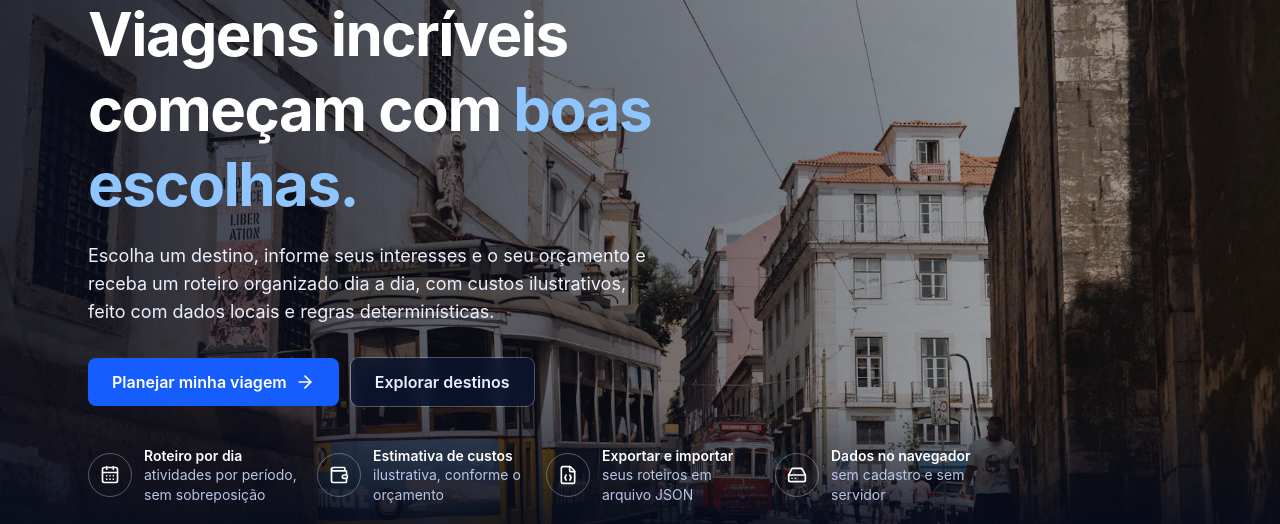
it: Etapa 2 — Datas e duração › opção A: calcula a duração a partir das datas e libera o avanço
Step 1. Click the link "Planejar minha viagem" → {"x": 213, "y": 382}, box [88, 358, 339, 406]
(page scrolled)
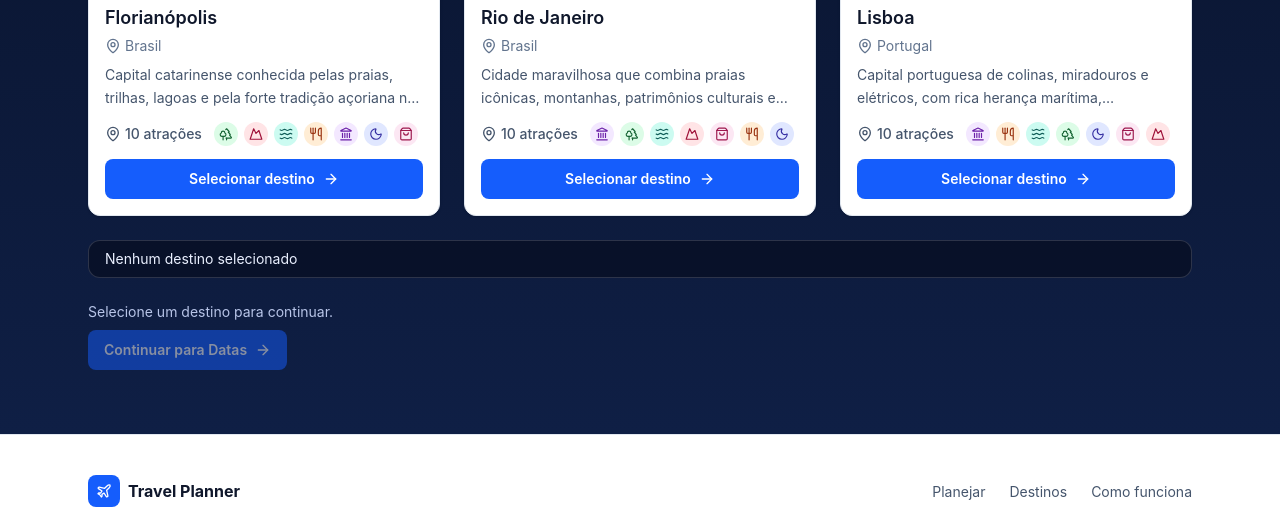
Step 2. Click the button "Selecionar destino" below "Portugal" → {"x": 1016, "y": 178}, box [857, 158, 1175, 198]
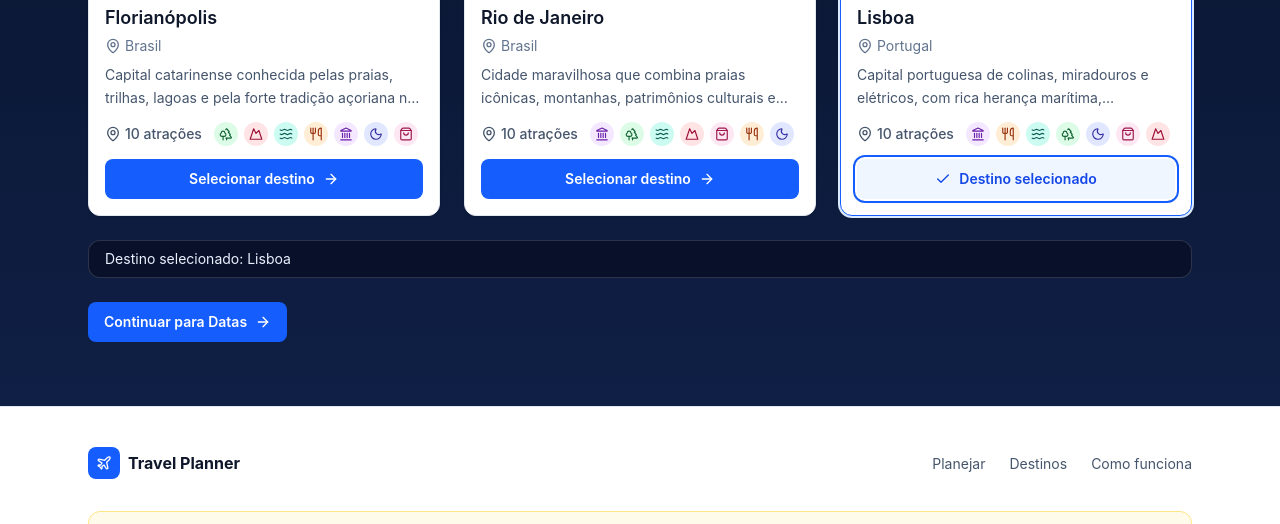
Step 3. Click the button "Continuar para Datas" → {"x": 188, "y": 322}, box [88, 302, 287, 342]
(page scrolled)
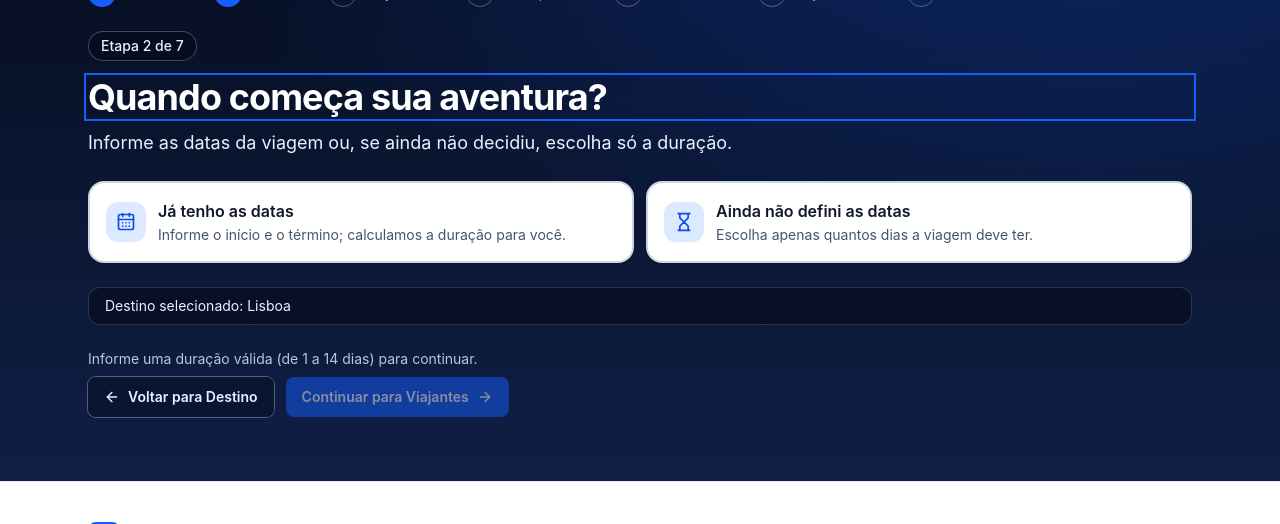
Expected: the heading "Quando começa sua aventura?" is shown, [88, 75, 607, 119]
Step 4. Click the radio button labelled "Já tenho as datas" → {"x": 361, "y": 222}, box [88, 181, 634, 263]
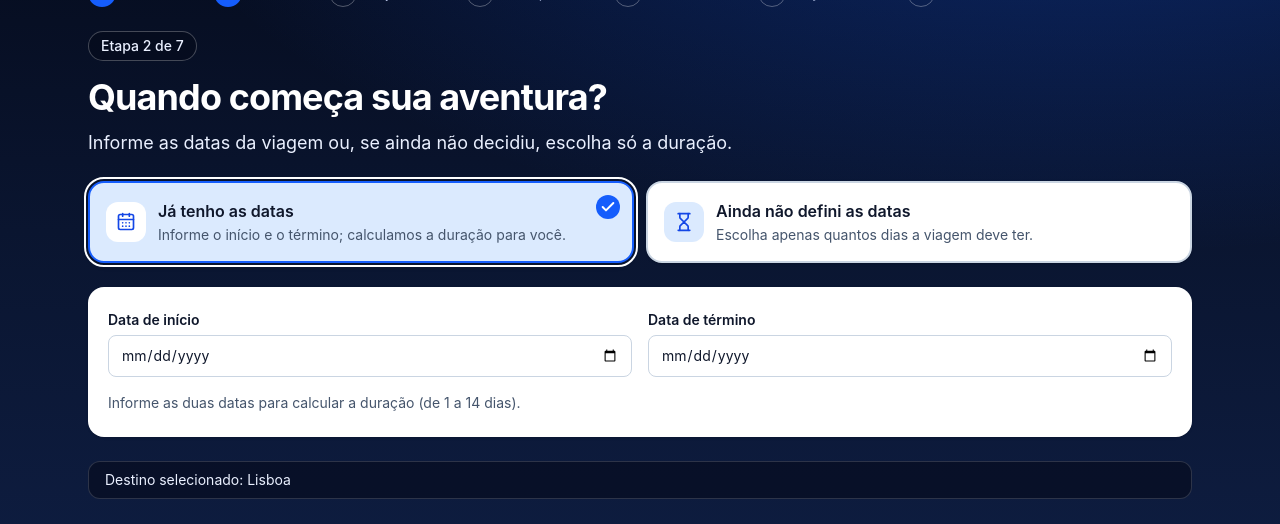
Step 5. Type "2026-10-20" into the date field labelled "Data de início" → {"x": 370, "y": 356}, box [108, 335, 632, 377]
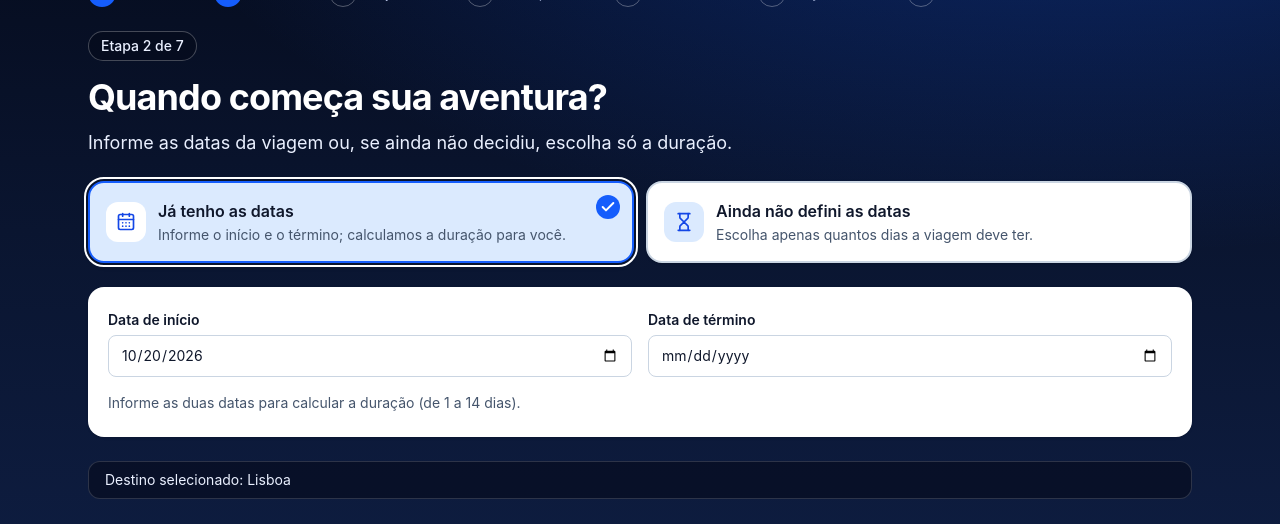
Step 6. Type "2026-10-27" into the date field labelled "Data de término" → {"x": 910, "y": 356}, box [648, 335, 1172, 377]
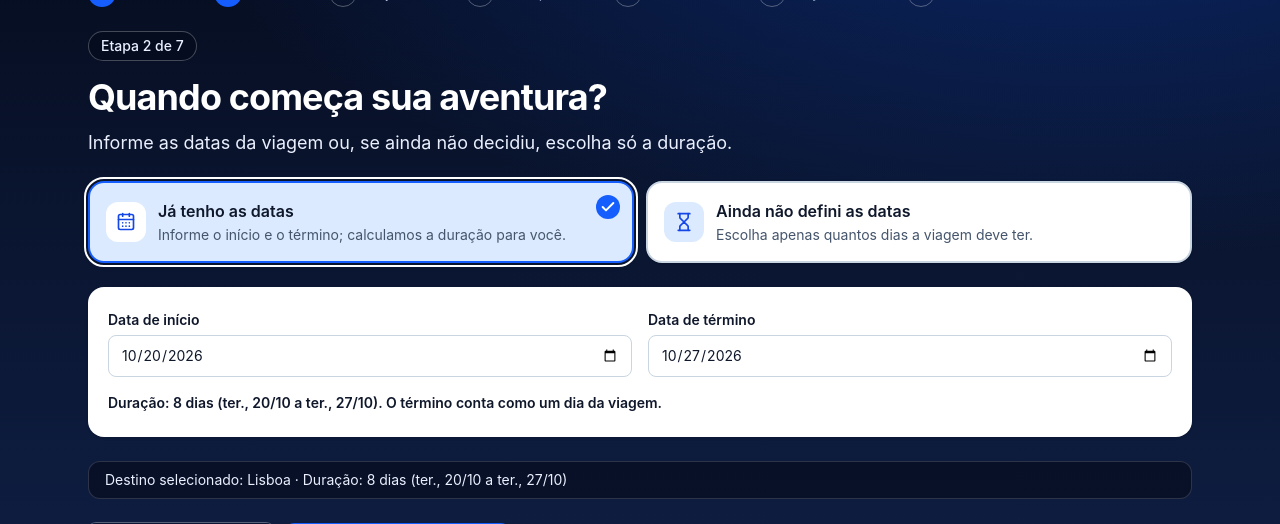
Expected: the message shows "Duração: 8 dias", [108, 394, 662, 411]
Expected: the element named "Resumo do planejamento" shows "Duração: 8 dias", [105, 471, 567, 488]
